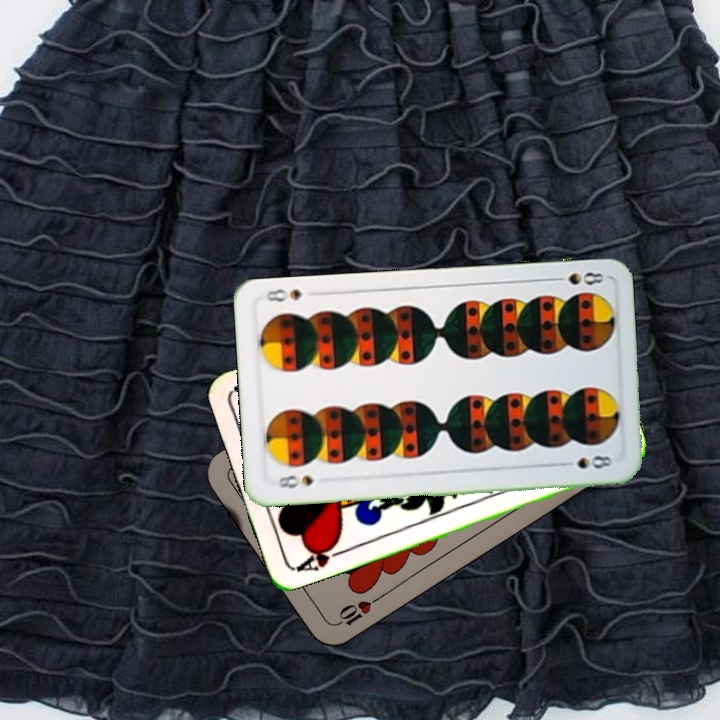H10: (328, 593, 382, 630)
HA: (292, 537, 349, 575)
S8: (547, 267, 606, 288), (272, 471, 316, 491)
